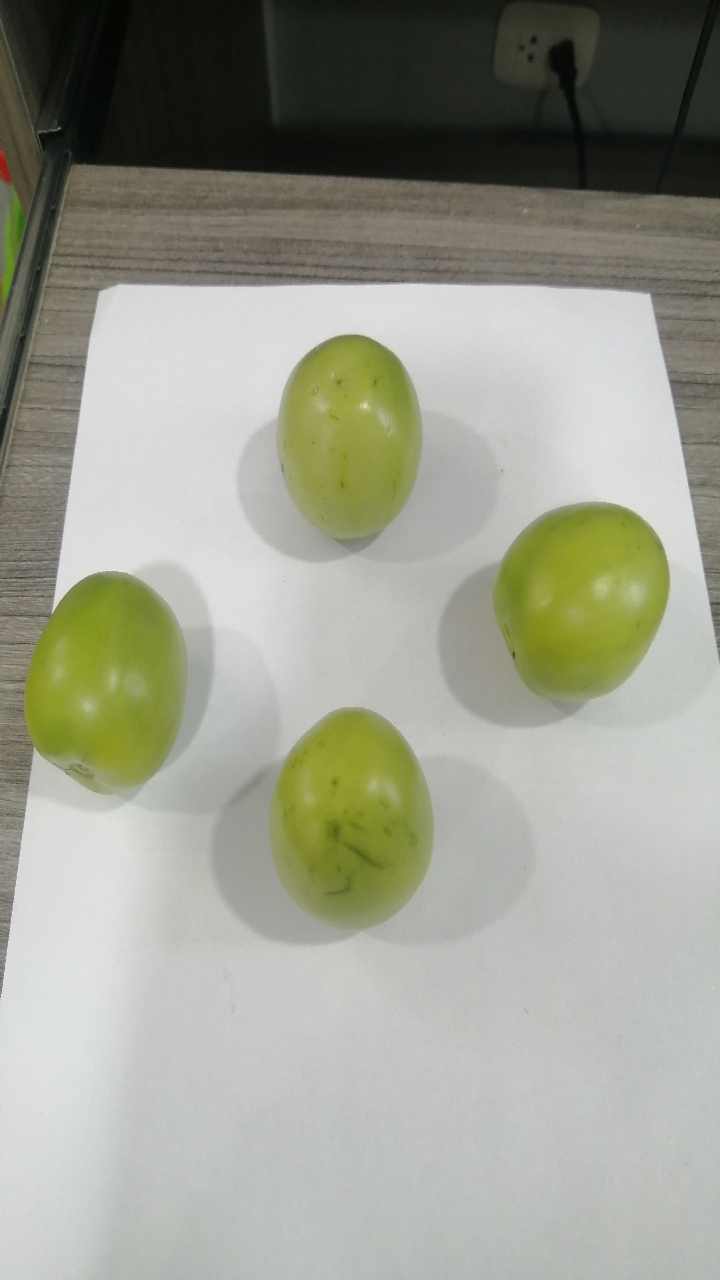tomateVerde: (11, 548, 204, 812), (258, 689, 449, 942), (254, 309, 435, 563), (483, 488, 681, 715)
